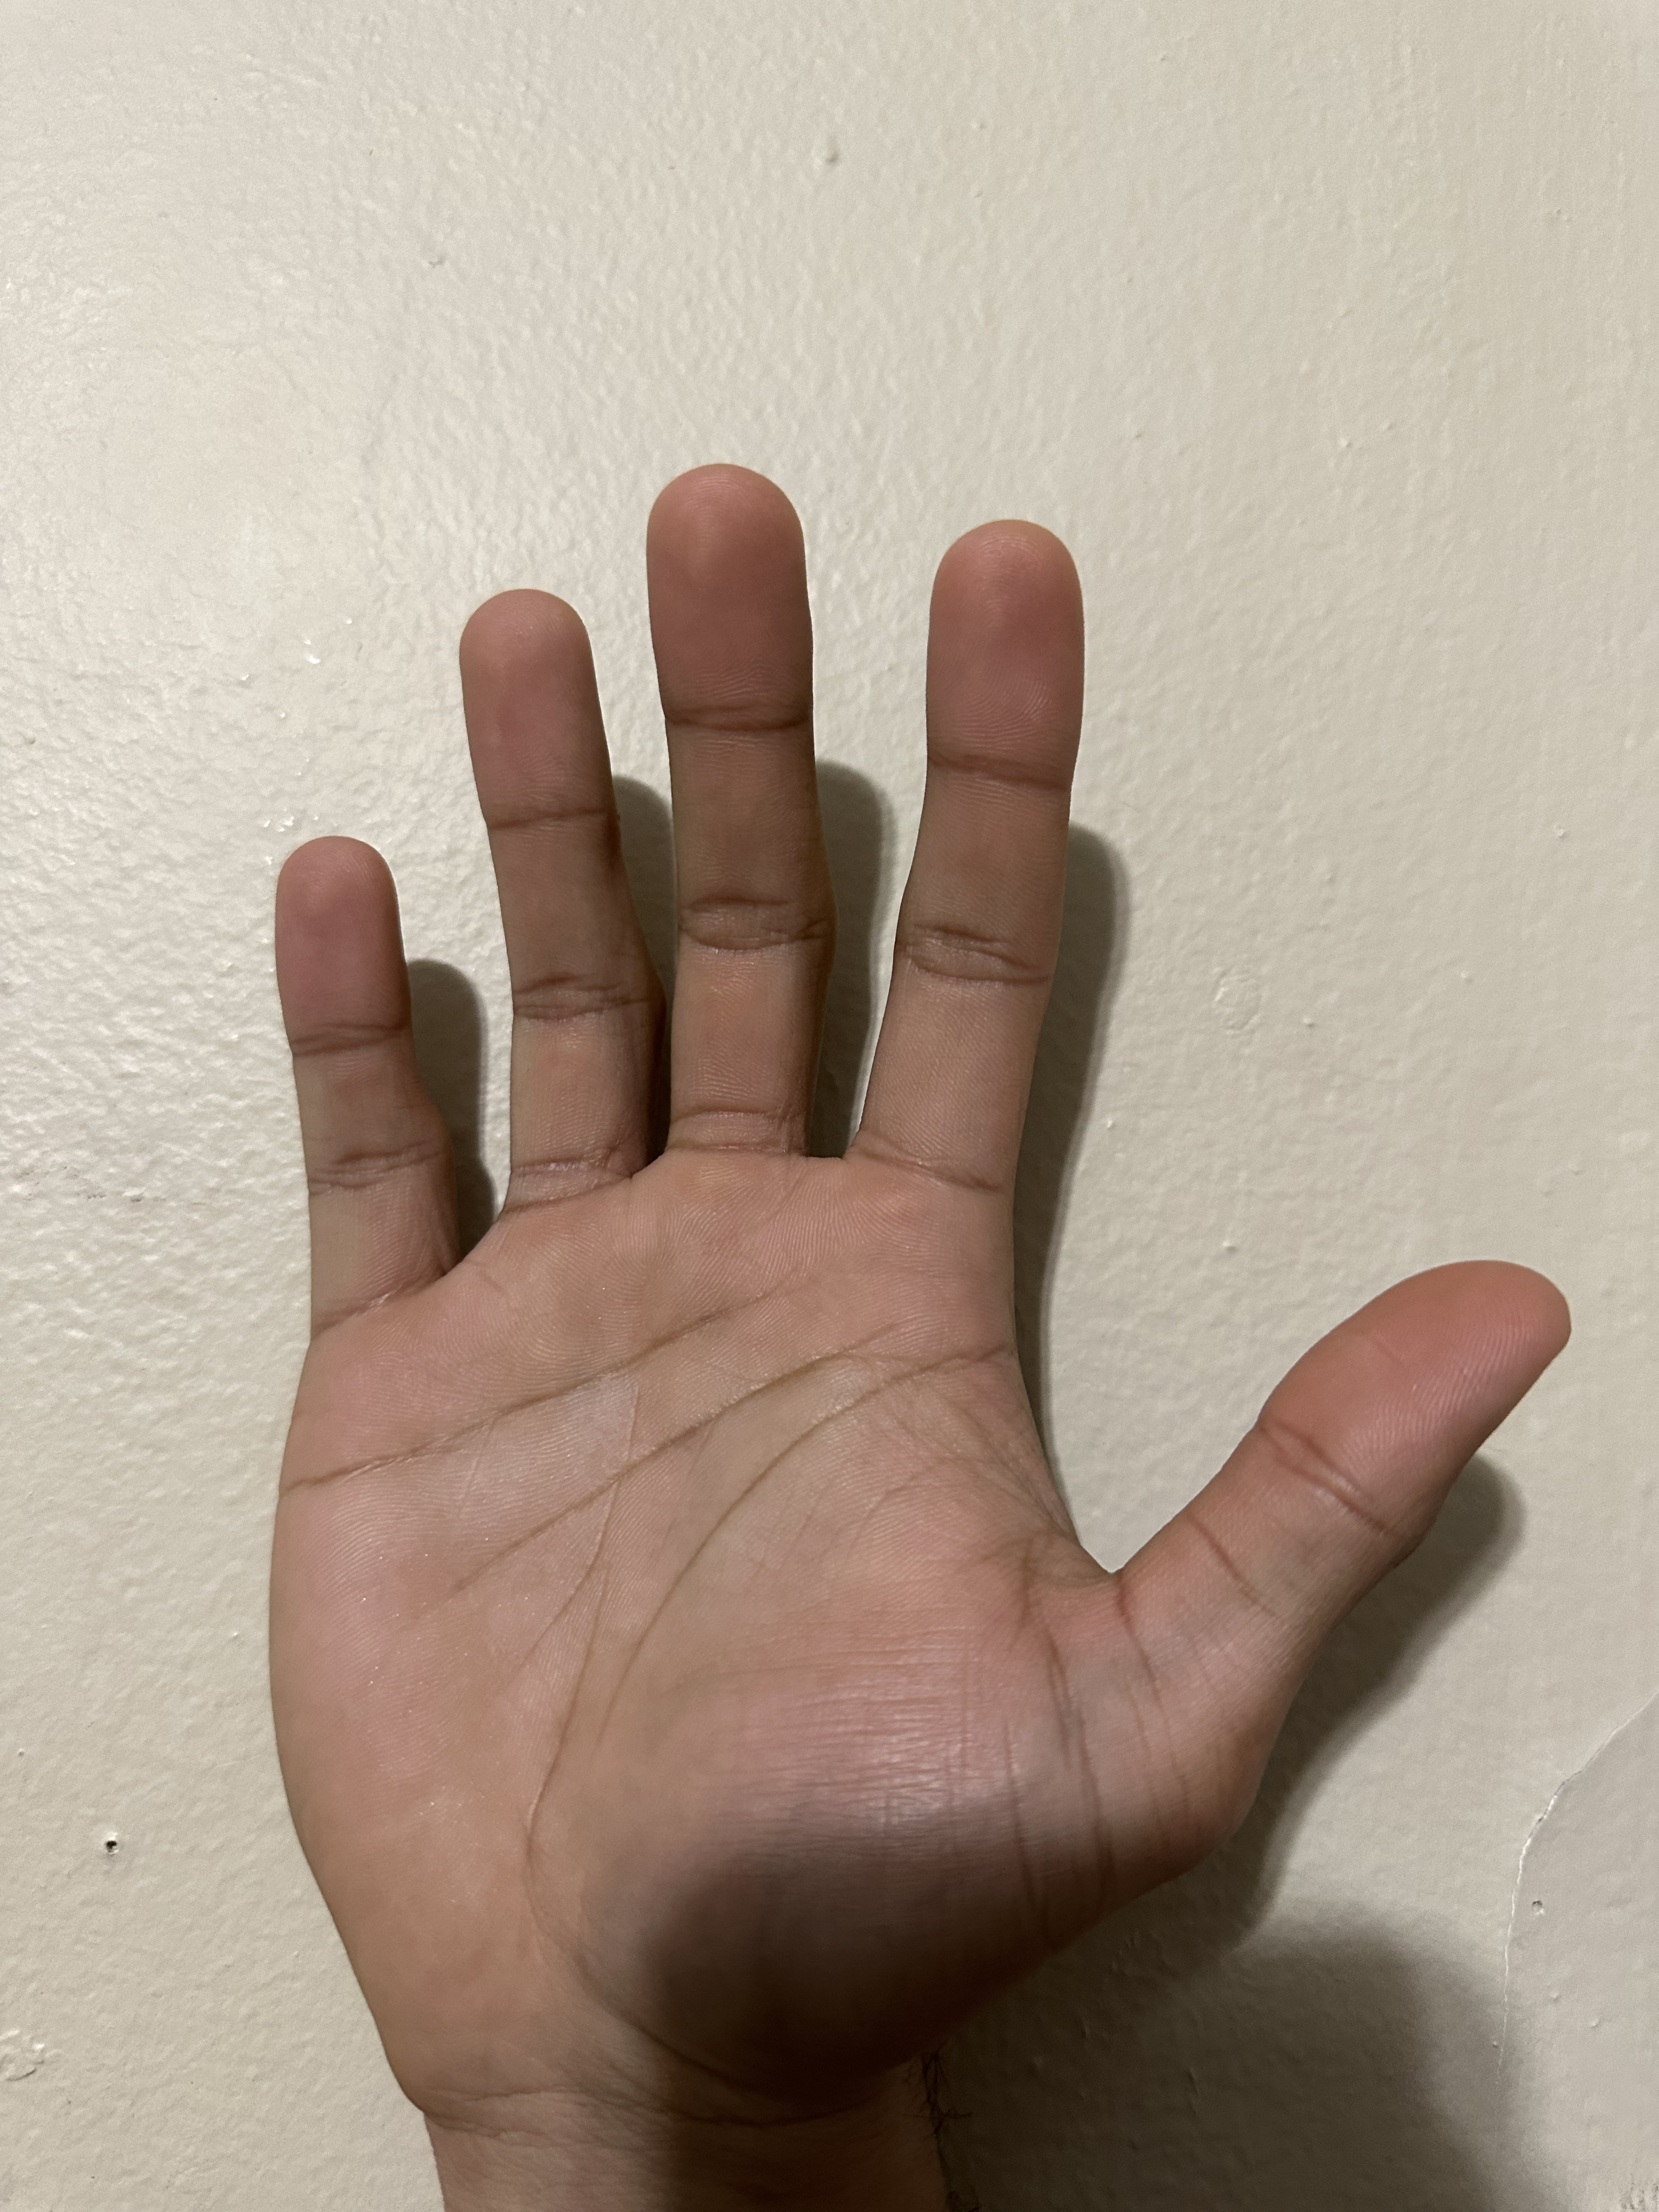finger: (1307, 1219, 1619, 1487), (627, 420, 830, 725), (906, 475, 1117, 758), (423, 547, 610, 796), (242, 786, 415, 1021)
